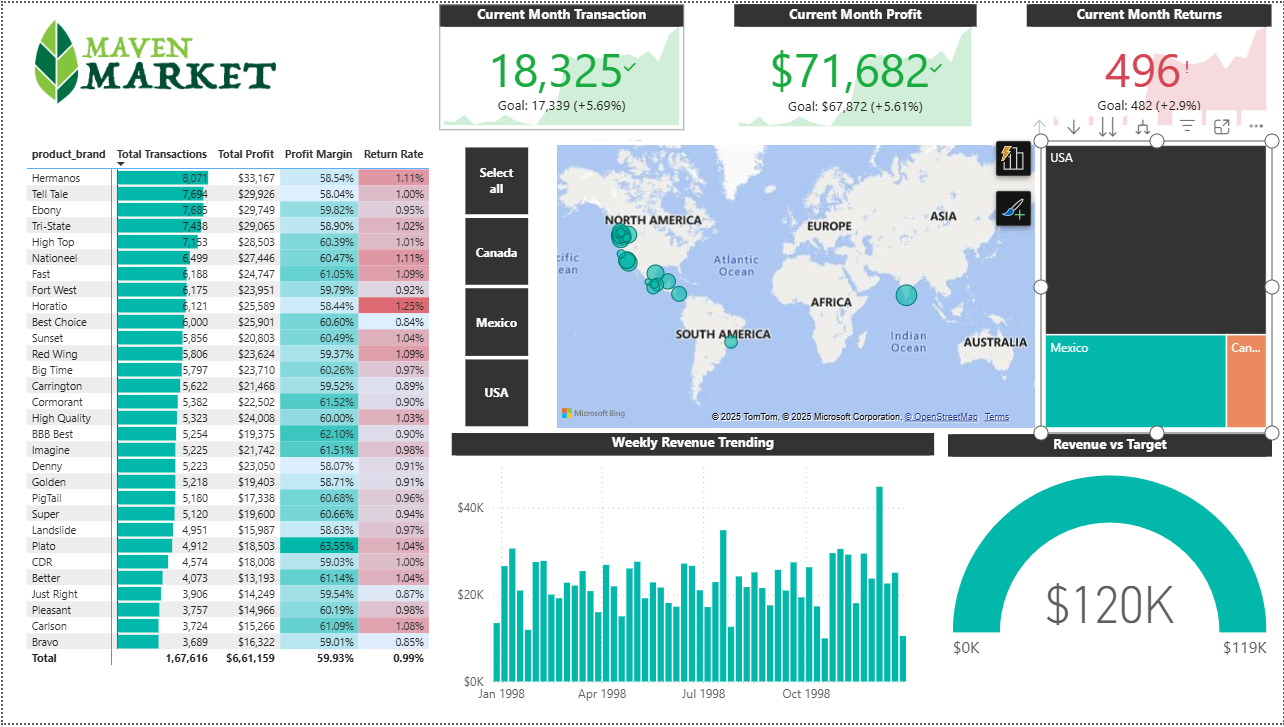

This screenshot's page, from the dashboard's own definition file:
{"tool":"powerbi","page":{"name":"Topline Performance","canvas":[1280,720],"ordinal":0},"visuals":[{"type":"image","box":[20,0,262.5,117.5],"z":0},{"type":"pivotTable","fields":{"Rows":["Products.product_brand"],"Values":["Measure Table.Total Transactions","Measure Table.Total Profit","Measure Table.Profit Margin","Measure Table.Return Rate"]},"box":[18.8,137.5,417.5,547.5],"z":1000},{"type":"kpi","title":"Current Month Transaction","fields":{"Indicator":["Measure Table.Total Transactions"],"TrendLine":["Calendar.Start of Month"],"Goal":["Measure Table.Last Month Transaction"]},"box":[436.2,1.2,245,126.2],"z":2000},{"type":"kpi","title":"Current Month Profit","fields":{"TrendLine":["Calendar.Start of Month"],"Indicator":["Measure Table.Total Profit"],"Goal":["Measure Table.Last Month Profit"]},"box":[731.2,1.2,242.5,127.5],"z":3000},{"type":"kpi","title":"Current Month Returns","fields":{"TrendLine":["Calendar.Start of Month"],"Indicator":["Measure Table.Total Returns"],"Goal":["Measure Table.Last Month Returns"]},"box":[1023.8,1.2,245,126.2],"z":4000},{"type":"map","fields":{"Category":["Stores.store_city"],"Size":["Measure Table.Total Transactions"]},"box":[548.8,137.5,487.5,292.5],"z":5000},{"type":"slicer","fields":{"Values":["Stores.store_country"]},"box":[422.5,137.5,126.2,292.5],"z":6000},{"type":"treemap","fields":{"Group":["Stores.store_country","Stores.store_state","Stores.store_city"],"Values":["Measure Table.Total Transactions"]},"box":[1037.5,137.5,231.2,292.5],"z":7000},{"type":"columnChart","title":"Weekly Revenue Trending","fields":{"Y":["Measure Table.Total Revenue"],"Category":["Calendar.Start of Week"]},"box":[448.8,430,482.5,278.8],"z":8000},{"type":"gauge","title":"Revenue vs Target","fields":{"Y":["Measure Table.Total Revenue"],"MaxValue":["Measure Table.Revenue Target"]},"box":[945,431.2,323.8,253.8],"z":9000}]}

Visuals, with their boxes in screenshot pixels (x1, y1, x2, y2), scaled from the page's 1280x720 canvas onto the 1284x727 screenshot:
image: (left=20, top=0, right=283, bottom=119)
pivotTable - Products.product_brand x Measure Table.Total Transactions: (left=19, top=139, right=438, bottom=692)
"Current Month Transaction" kpi: (left=438, top=1, right=683, bottom=129)
"Current Month Profit" kpi: (left=733, top=1, right=977, bottom=130)
"Current Month Returns" kpi: (left=1027, top=1, right=1273, bottom=129)
map - Stores.store_city x Measure Table.Total Transactions: (left=551, top=139, right=1040, bottom=434)
slicer - Stores.store_country: (left=424, top=139, right=550, bottom=434)
treemap - Stores.store_country x Stores.store_state: (left=1041, top=139, right=1273, bottom=434)
"Weekly Revenue Trending" columnChart: (left=450, top=434, right=934, bottom=716)
"Revenue vs Target" gauge: (left=948, top=435, right=1273, bottom=692)
